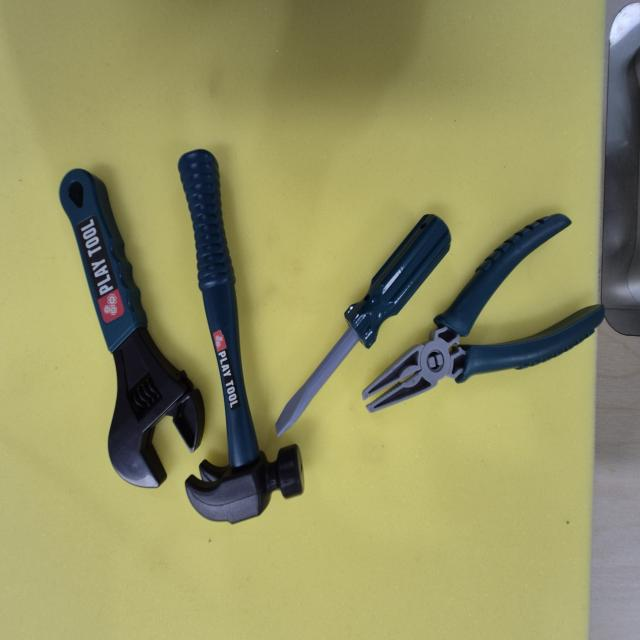hammer: (162, 136, 310, 540)
pliers: (350, 184, 620, 430)
screwdriver: (264, 190, 457, 446)
wrench: (46, 147, 212, 502)
